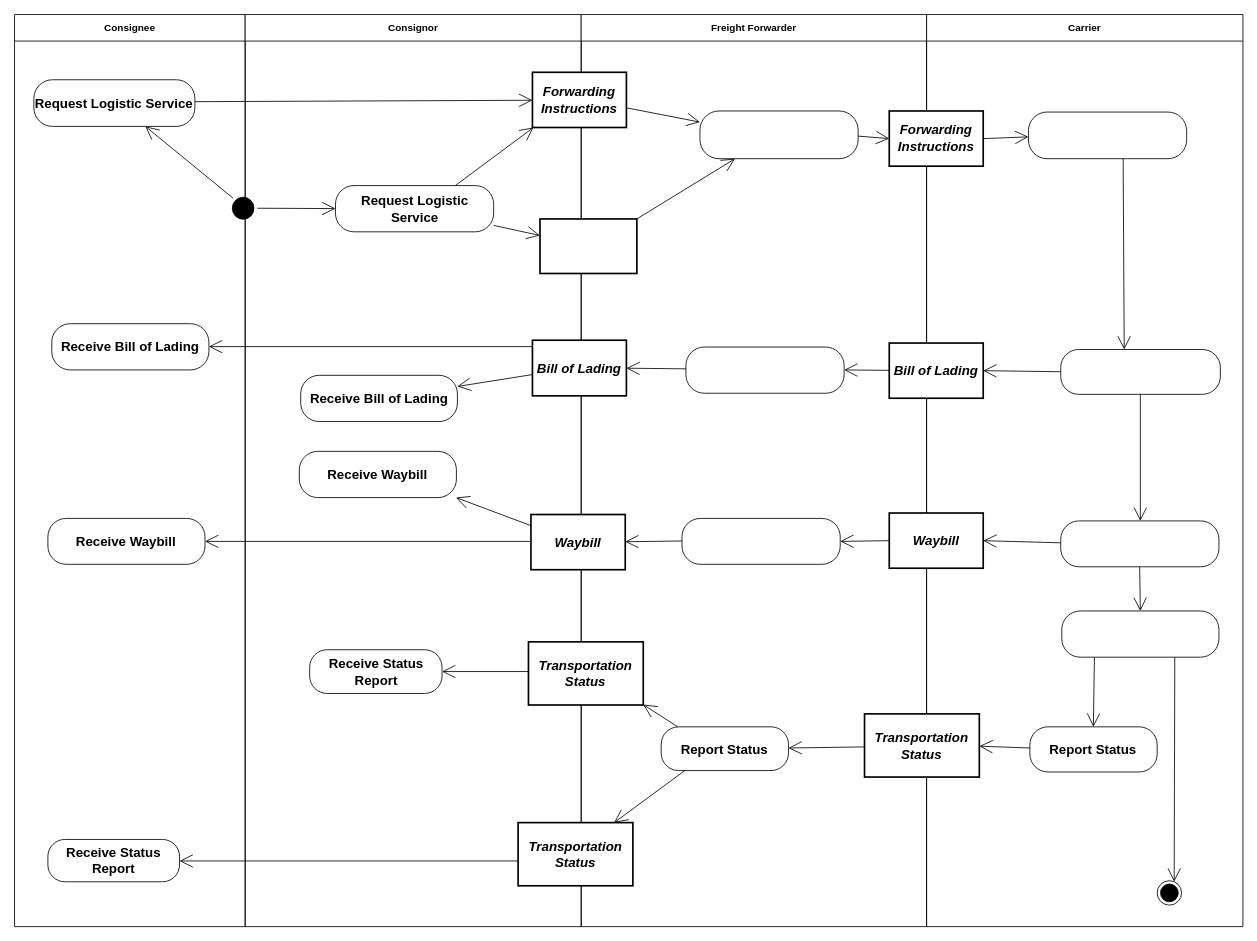
Some shapes in this 1257 by 941 pixel diagram are drawn without their labels. The shapes that lost their labels are listed below. From the top down, each one's centre as x and y in pixels, then its label:
At (778,134): "Request Transport Service".
At (1107,135): "Receive Transport Service Request".
At (588,246): "Packing List".
At (764,369): "Send Bill of Lading to Consignor".
At (1140,371): "Send Bill of Lading".
At (760,541): "Send Waybill to Consignor".
At (1139,543): "Send Waybill".
At (1140,633): "Transport Goods Items to Delivery Party".
